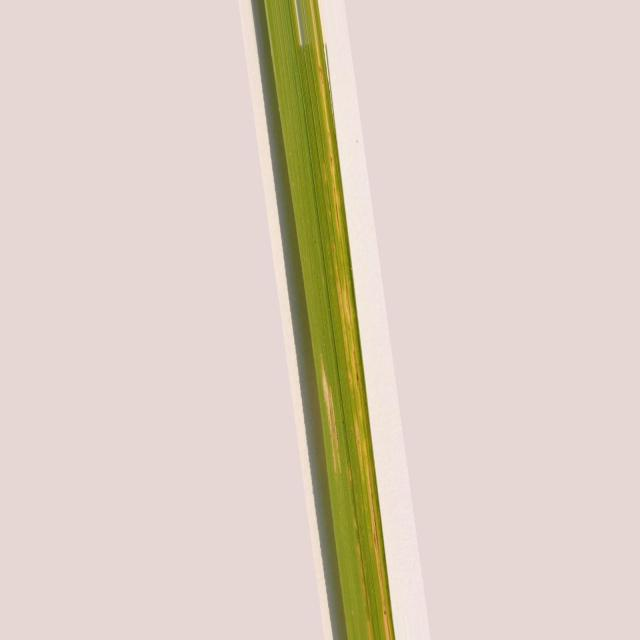Bacterial_Leaf_Blight: (367, 465, 390, 640), (321, 364, 342, 475), (332, 184, 342, 236), (296, 0, 304, 48), (352, 342, 359, 393), (319, 66, 326, 112), (328, 134, 335, 178), (355, 422, 362, 465), (345, 280, 351, 329)
